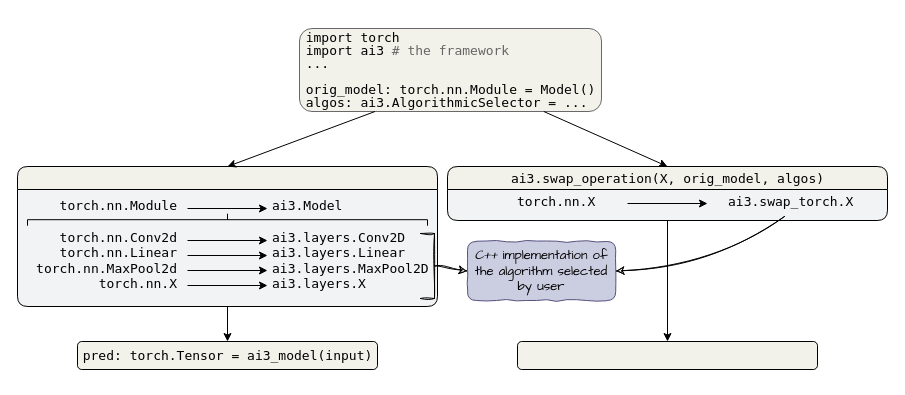
Some shapes in this 905 by 395 pixel diagram are drawn without their labels. Here are the shapes that lost their labels. From the top down, the box of each, then its label:
(16, 166, 438, 306): ai3_model = ai3.swap_backend( orig_model , algos)
(516, 340, 818, 370): pred: torch.Tensor = orig_model(input)
